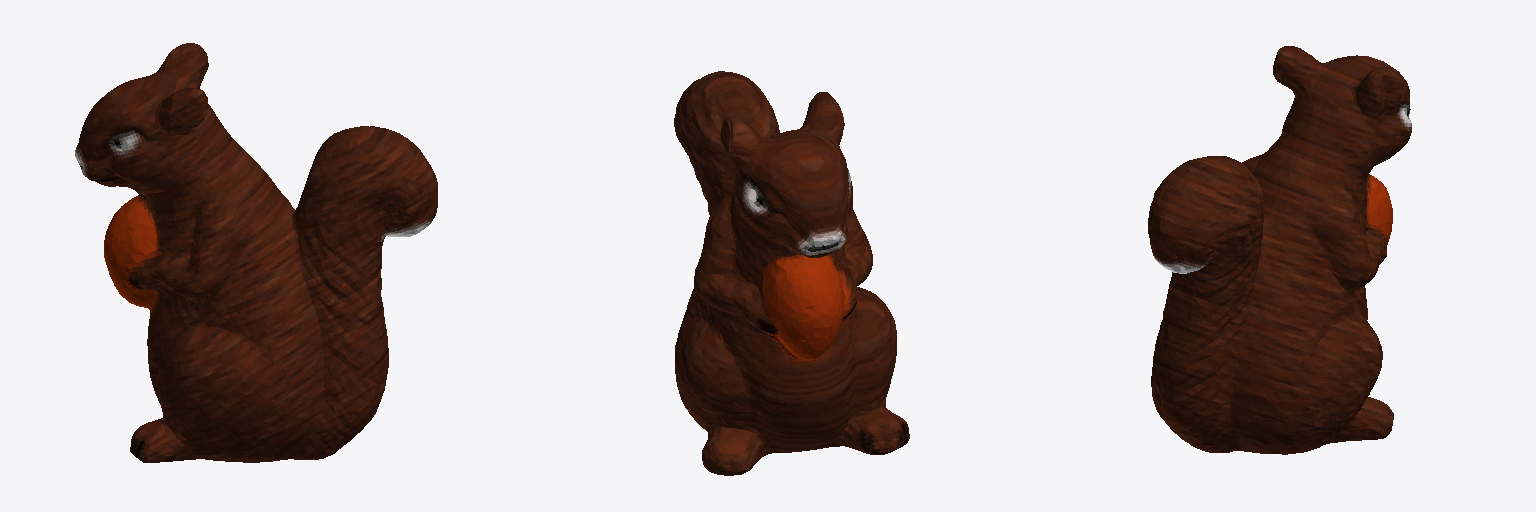
3 views of the same model, side by side, from view 1: azimuth 30°, elevation 25°; view 2: azimuth 150°, elevation 25°; view 3: azimuth 270°, elevation 25° (orthographic).
Visible parts, largest first — view 1: default; view 2: default; view 3: default.
Boxes of the visible parts, x1=… form: default: x1=75, y1=43, x2=437, y2=462; default: x1=674, y1=71, x2=909, y2=475; default: x1=1148, y1=46, x2=1411, y2=454.
Bounding box in the file's own units: 181 × 240 × 160.
1 materials, 1 textured.